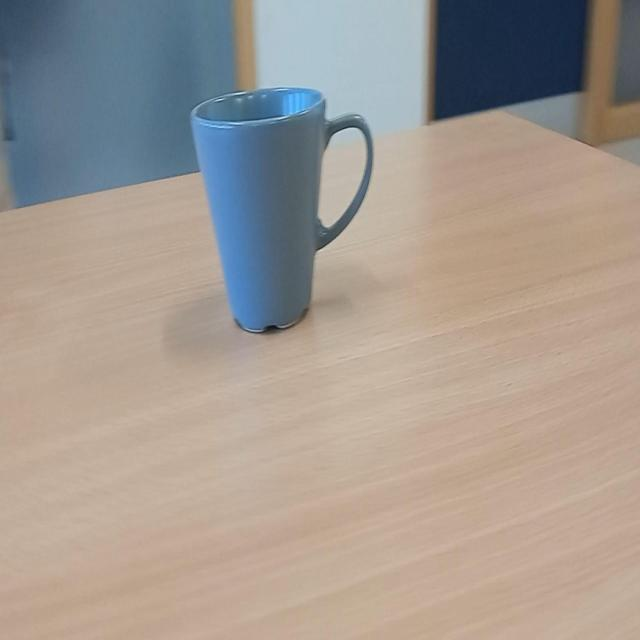cup: (190, 84, 373, 338)
